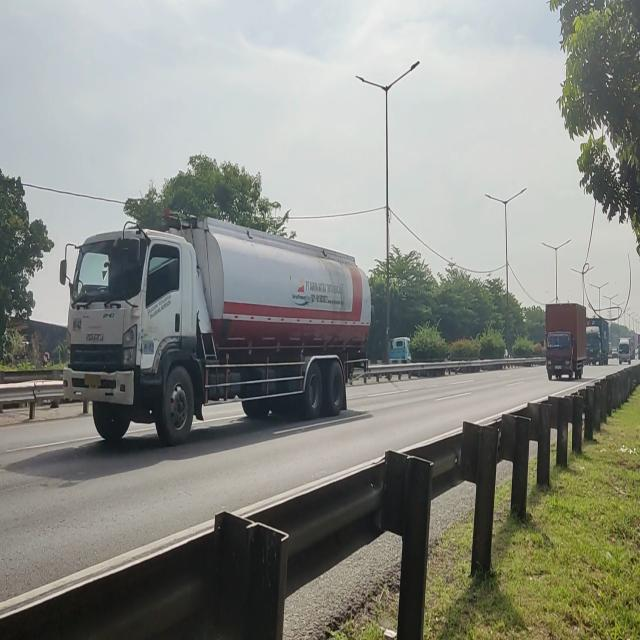Golongan III: (62, 208, 377, 446)
